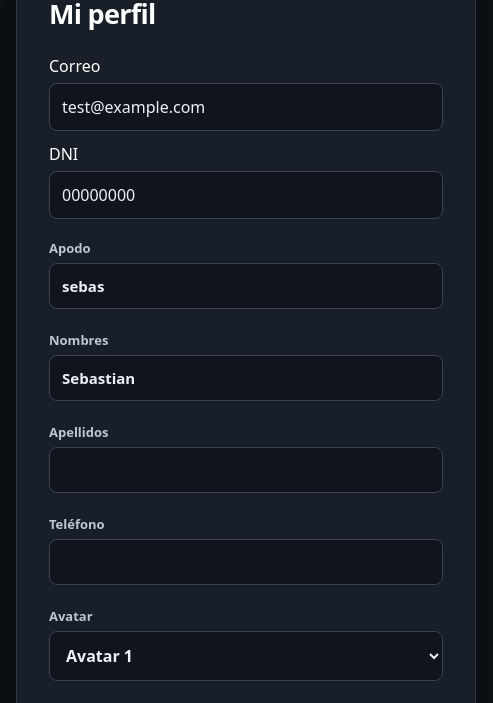
Test: HU37 restaura datos y envía cambios sin correo ni DNI
Check: the field labelled "Nombres" holds "Sebastian", box [49,355,443,401]
In the field labelled "Teléfono": (246, 562) [49,539,443,585], type "+51 999999999"
(page scrolled)
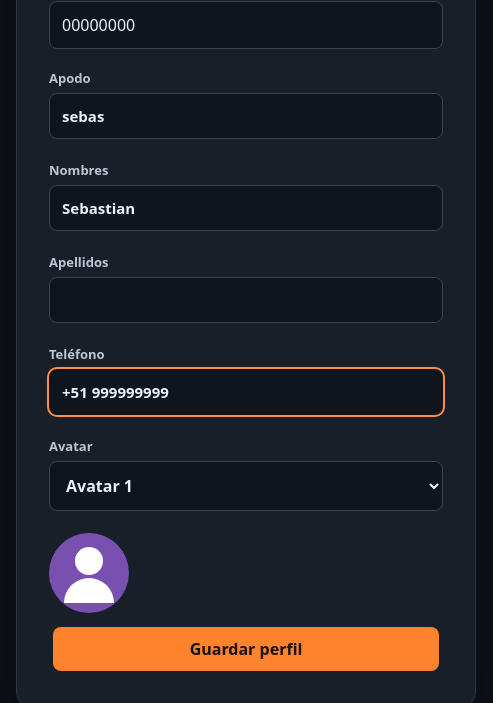
Click the button "Guardar perfil": (246, 649) [53,627,439,671]
(page scrolled)
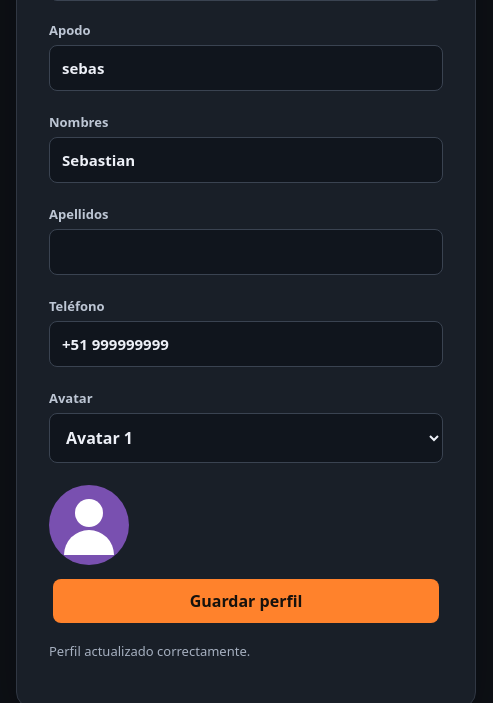
Check: the message shows "Perfil actualizado", box [49,642,250,660]
